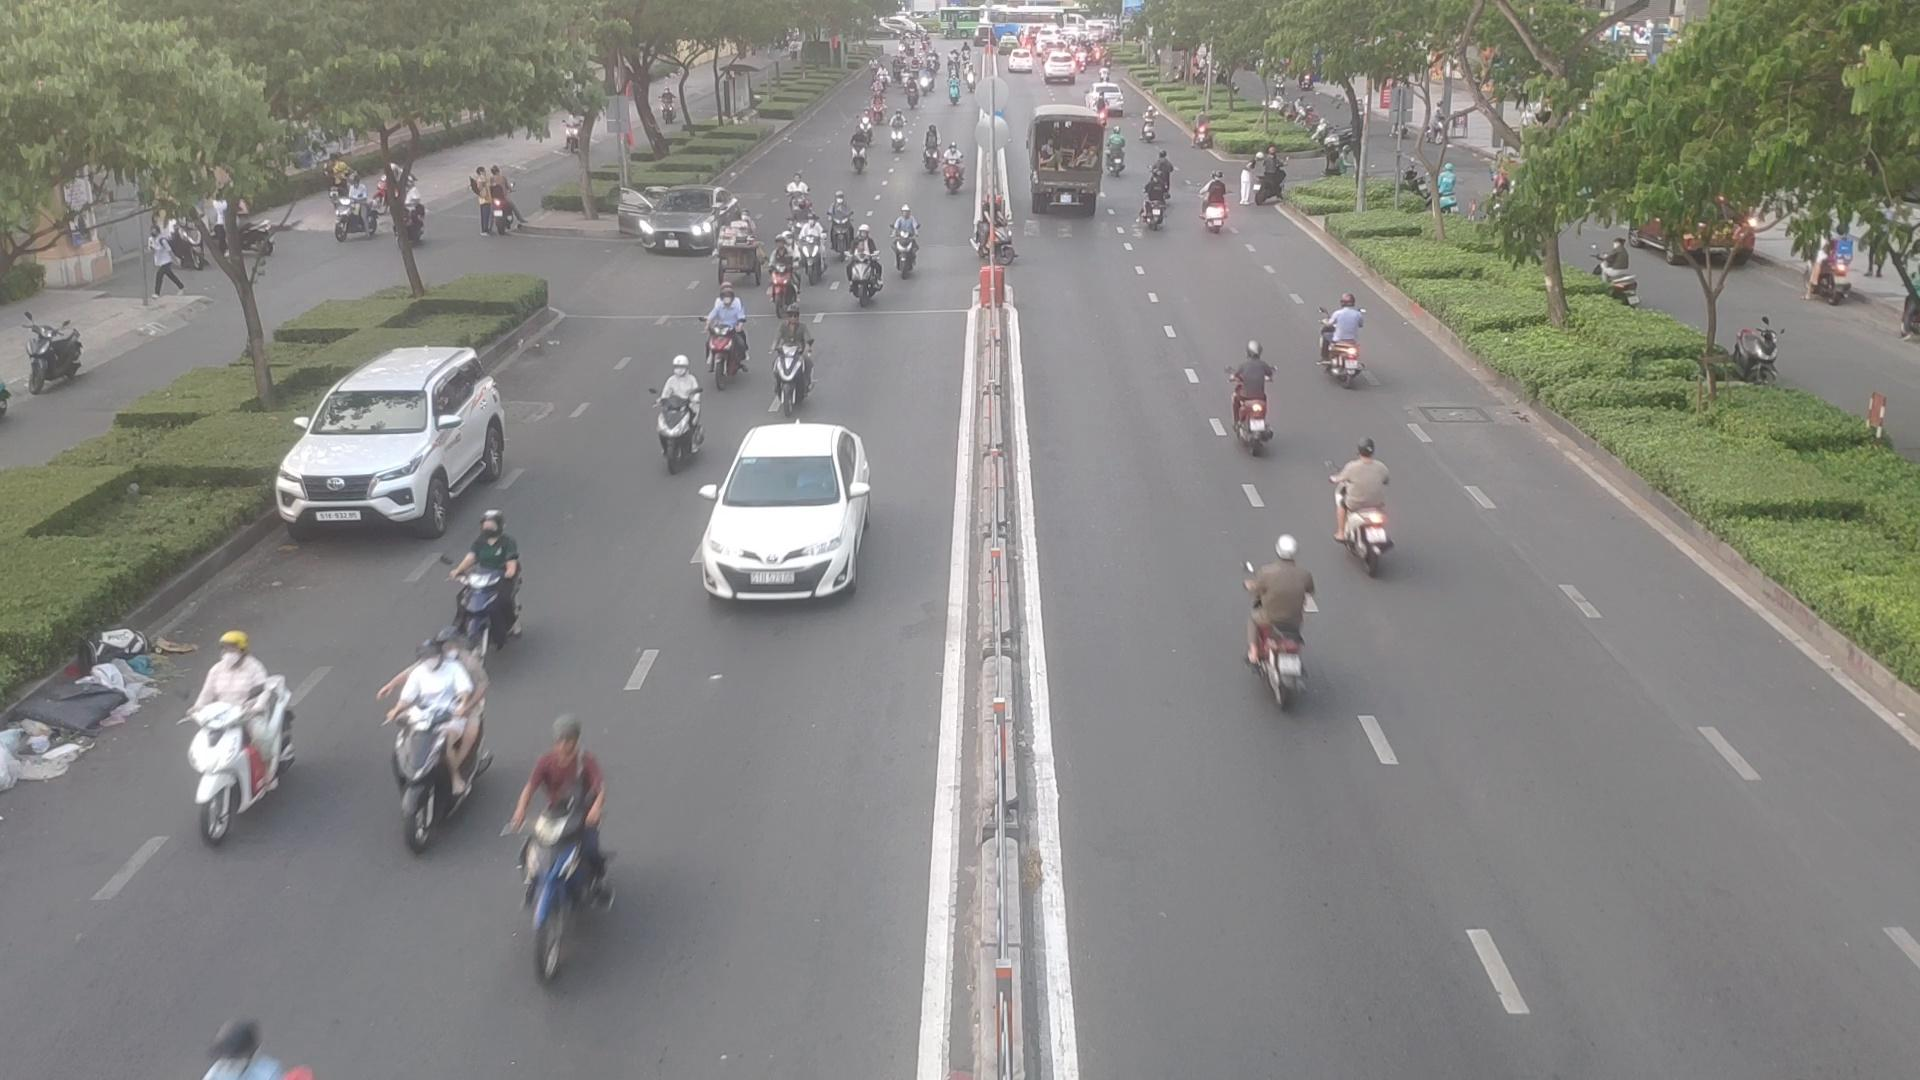car: (278, 343, 522, 531), (690, 422, 880, 600), (615, 193, 735, 260)
motorbike: (171, 638, 305, 833), (378, 646, 485, 789), (1233, 537, 1324, 695), (438, 516, 527, 637), (1325, 439, 1406, 564), (645, 365, 705, 462), (1222, 344, 1280, 442), (771, 315, 825, 402), (699, 291, 753, 377), (1319, 295, 1374, 378), (887, 211, 920, 276), (1195, 178, 1229, 235), (825, 196, 858, 244), (1142, 186, 1172, 231), (942, 148, 969, 195)
